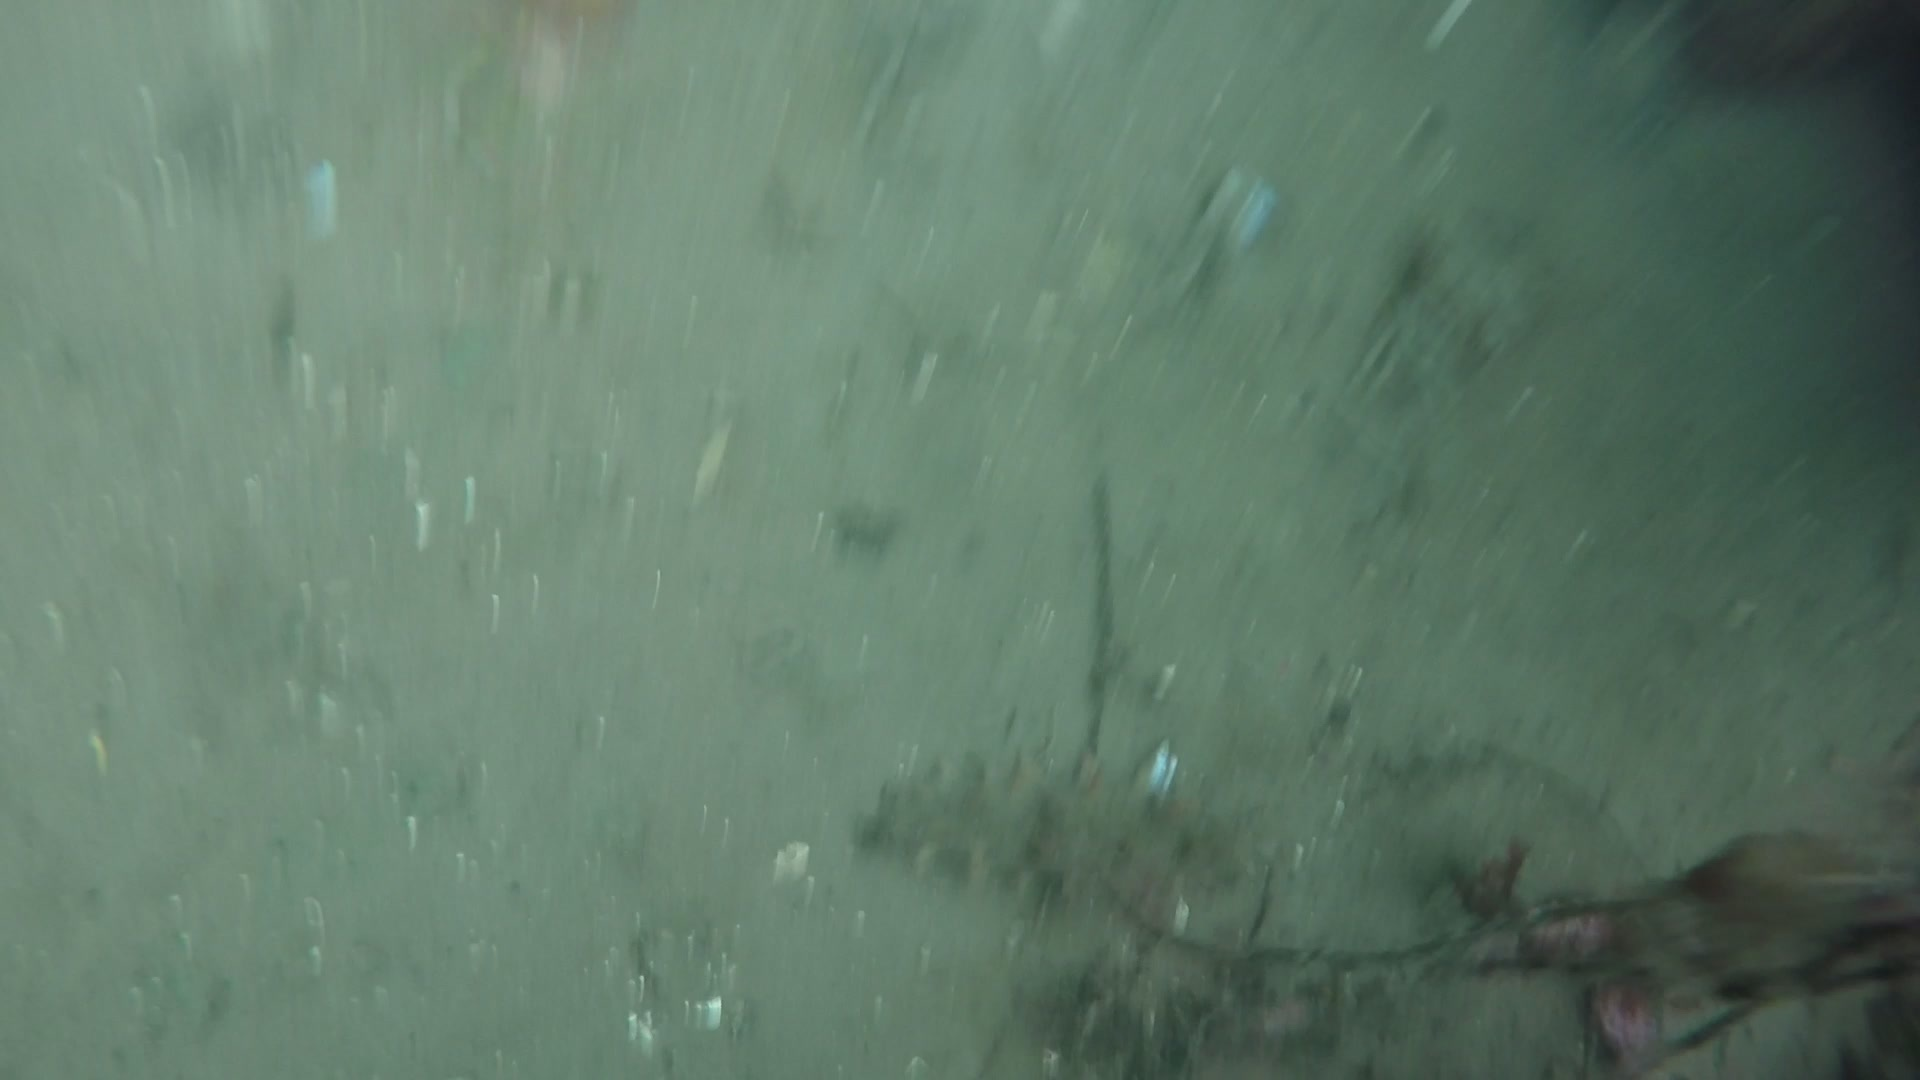holothurian: (857, 738, 1261, 936)
